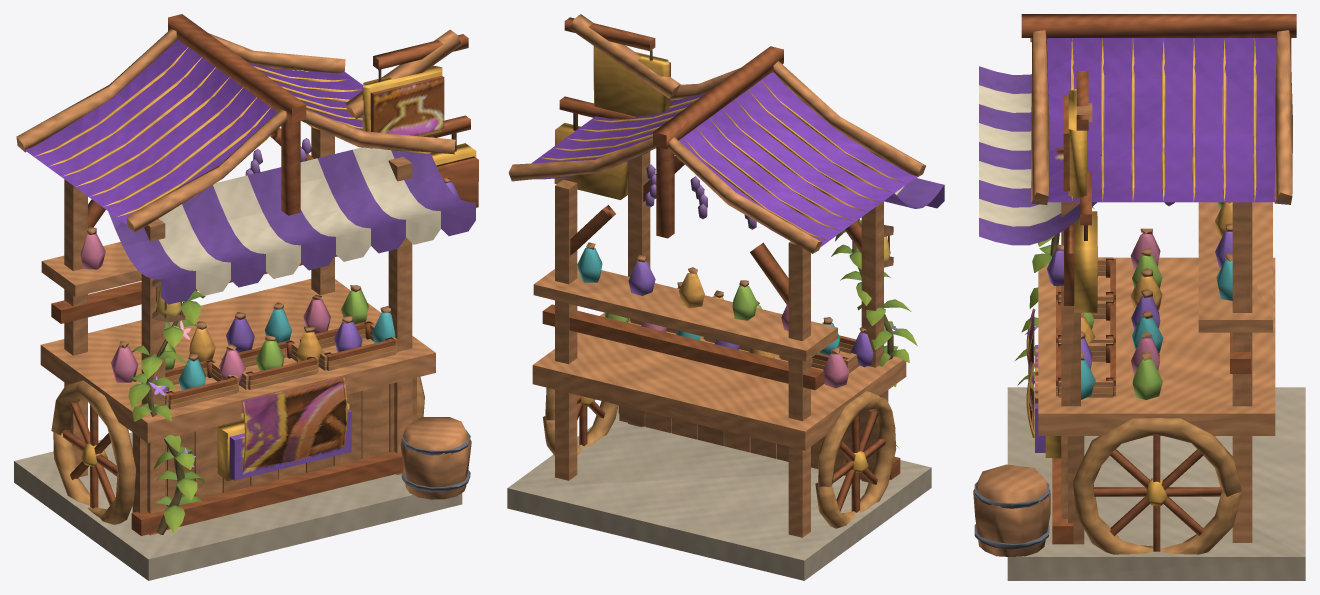
The model's file is stall_potions.glb.
3 views of the same model, side by side, from view 1: azimuth 30°, elevation 25°; view 2: azimuth 150°, elevation 25°; view 3: azimuth 270°, elevation 25° (orthographic). The views are drawn at different scales.
Parts seen in each view (by area): view 1: Body; view 2: Body; view 3: Body.
Boxes of the visible parts, left/top/right/bottom form: Body: left=14, top=14, right=478, bottom=580; Body: left=507, top=14, right=944, bottom=580; Body: left=973, top=14, right=1305, bottom=580.
Bounding box in the file's own units: 2.83 × 3.27 × 2.02.
Materials: 1 (1 with a texture image).
